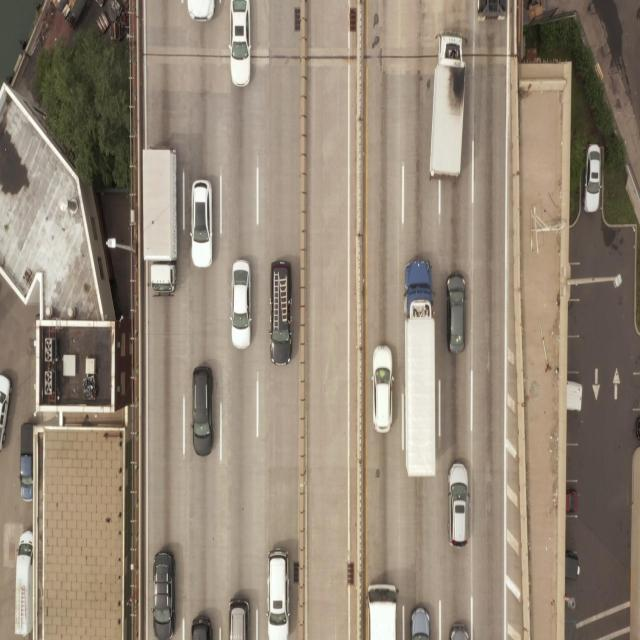Car: (190, 363, 215, 458), (447, 460, 472, 550), (151, 551, 176, 640), (189, 178, 213, 270), (267, 546, 290, 640), (228, 0, 252, 90), (371, 345, 394, 433), (229, 259, 251, 350), (445, 269, 467, 356), (584, 142, 603, 215), (228, 597, 251, 640), (408, 607, 431, 640), (18, 452, 33, 501), (187, 0, 219, 22), (190, 614, 213, 640), (448, 622, 469, 640), (566, 488, 578, 516)
Truck: (402, 255, 437, 481), (428, 30, 470, 190), (140, 145, 180, 299), (365, 580, 401, 640)
Van: (267, 258, 295, 367), (14, 529, 34, 637)
